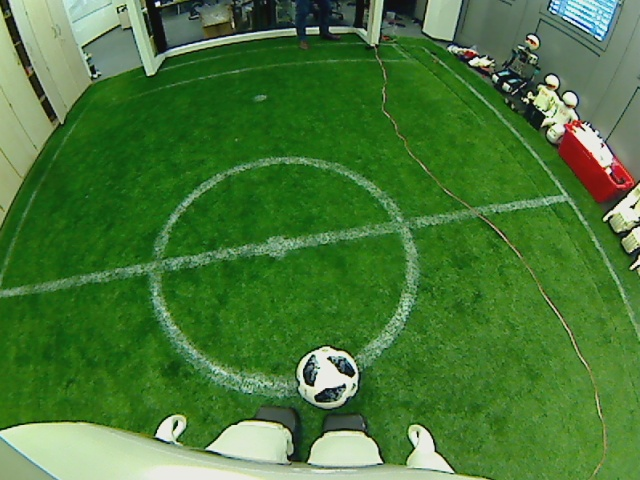ball: (294, 343, 359, 409)
